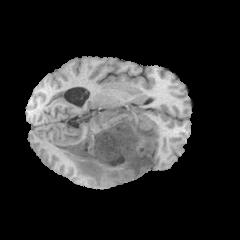glioma: (54, 103, 159, 187)
